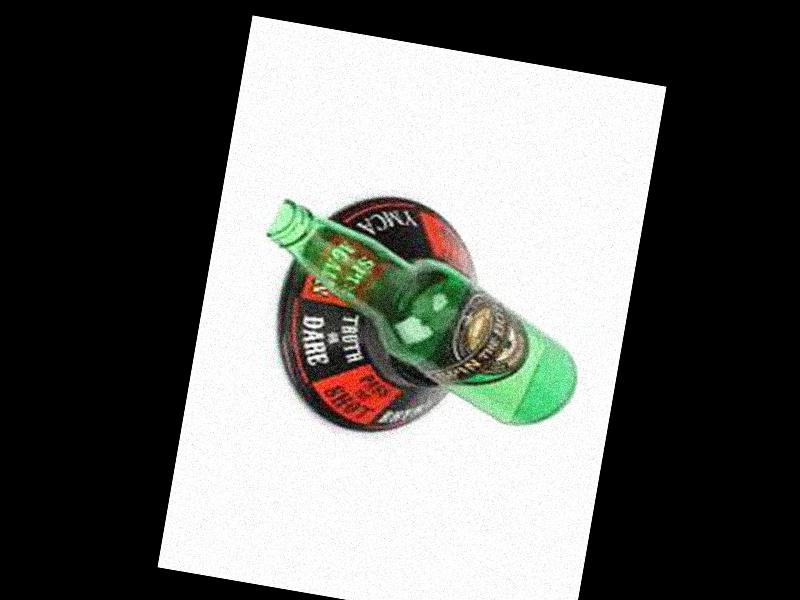Beer: (240, 198, 597, 436)
